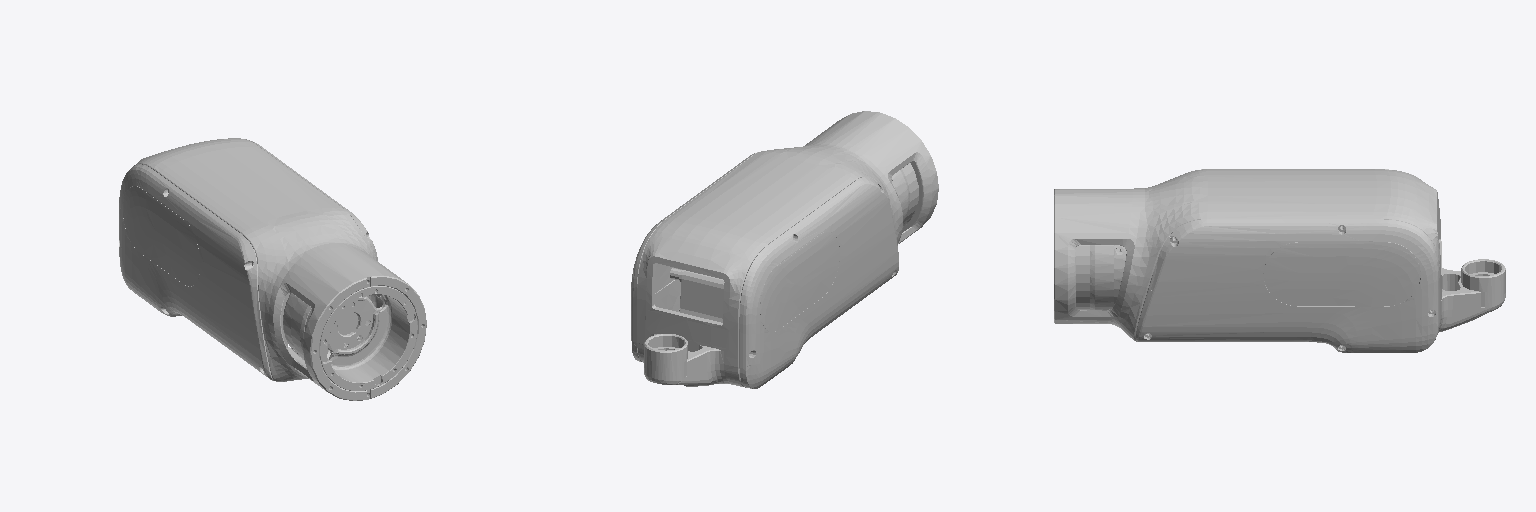
File: left_hand_yaw_link.obj
3 views of the same model, side by side, from view 1: azimuth 30°, elevation 25°; view 2: azimuth 150°, elevation 25°; view 3: azimuth 270°, elevation 25° (orthographic).
Visible parts, largest first — view 1: left_hand_yaw_link; view 2: left_hand_yaw_link; view 3: left_hand_yaw_link.
Part boxes in pixels (left/top/right/bottom): left_hand_yaw_link: left=119, top=138, right=426, bottom=400; left_hand_yaw_link: left=631, top=111, right=938, bottom=388; left_hand_yaw_link: left=1054, top=169, right=1505, bottom=352.
Bounding box in the file's own units: 0.0676 × 0.0694 × 0.207.